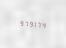four: (43, 20, 47, 29)
nine: (17, 18, 21, 27), (28, 19, 32, 27)
one: (33, 20, 37, 28)
seven: (22, 19, 26, 27), (38, 20, 42, 28)
